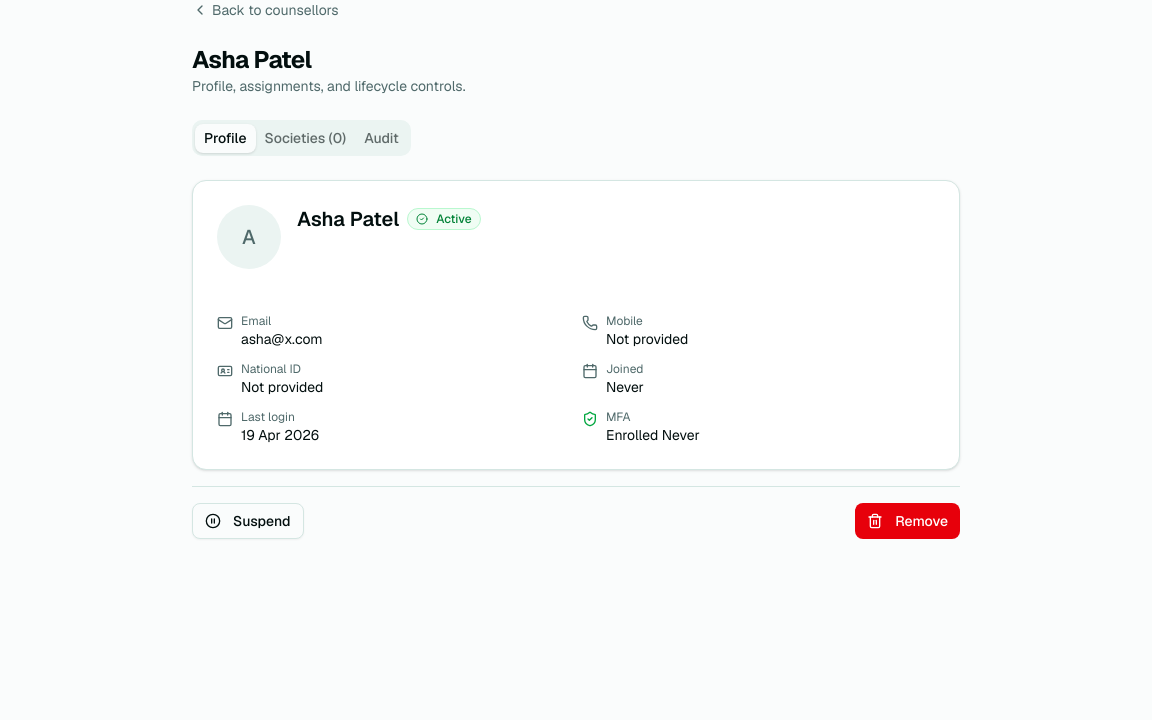
Test: CounsellorDetailPage › opens confirmation dialog when Remove clicked
The width and height of the screenshot is (1152, 720).
Click the button "Remove": (908, 521) [855,503,960,539]
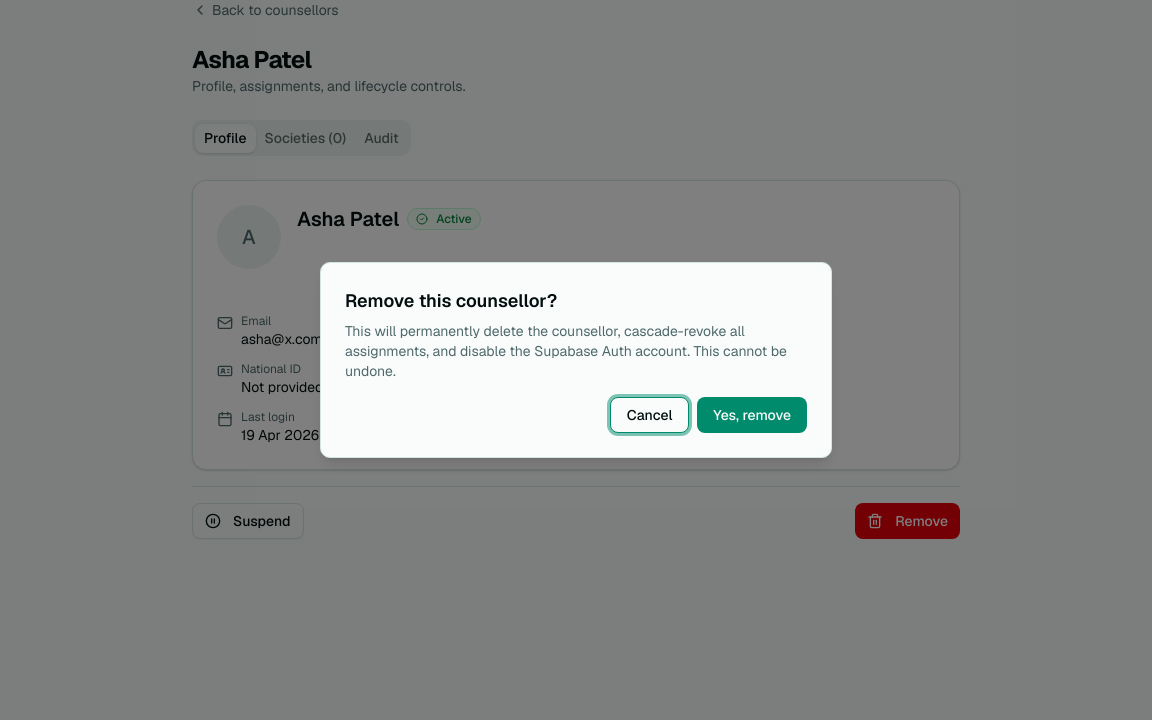
Now the heading "Remove this counsellor?" is shown, box [345,287,557,315]
